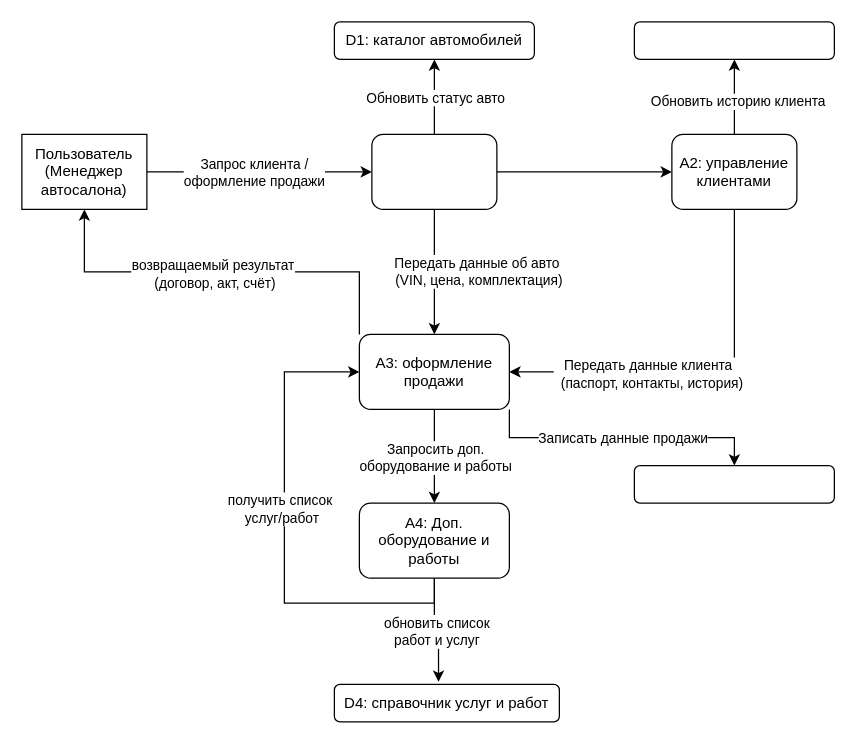
The diagram is 856 pixels wide and 744 high, and some of its shapes have lost their labels. Each missing label, with the centre of its shape:
"A1: учёт автомобилей" belongs at pixel 434 171.
"D2: база клиентов" belongs at pixel 733 40.
"D3: история продаж" belongs at pixel 733 483.
